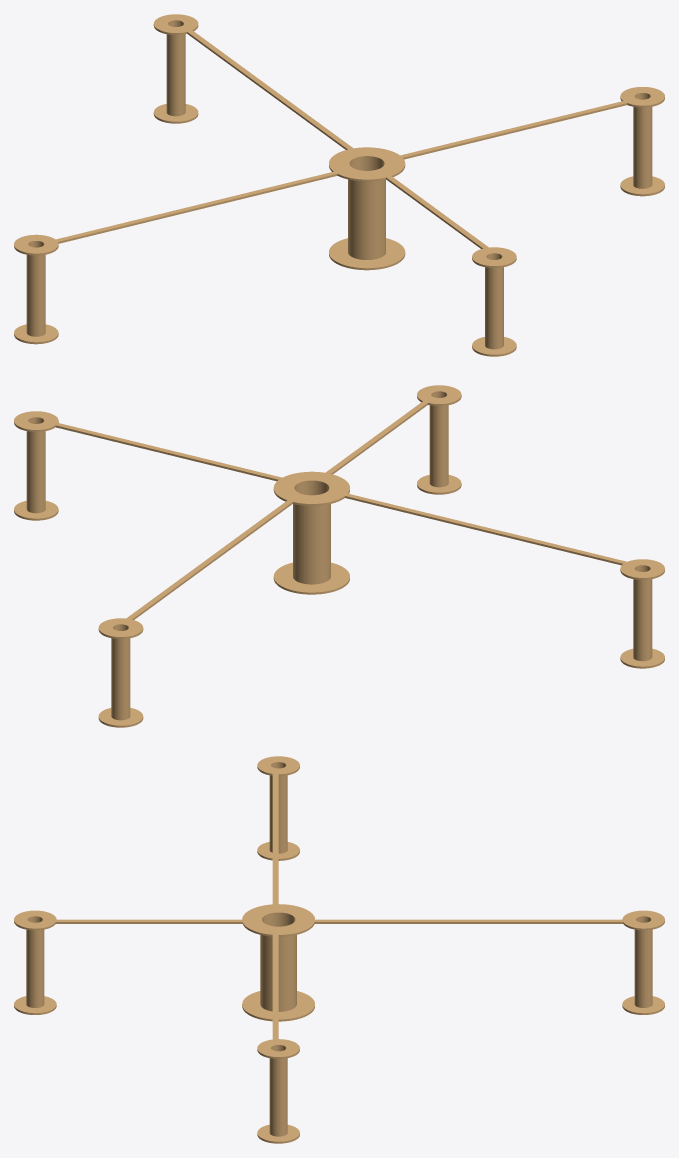
The model's file is board.glb.
The picture shows the model from 3 angles, top to bottom: view 1: azimuth 30°, elevation 25°; view 2: azimuth 150°, elevation 25°; view 3: azimuth 270°, elevation 25°; orthographic projection. The views are drawn at different scales.
Visible parts, largest first — view 1: Bare_Via_Tube_0, Unified_Net_1_Island_5, Unified_Net_6_Island_13, Bare_Via_Tube_4, Bare_Via_Tube_3, Bare_Via_Tube_2, Bare_Via_Tube_1, Unified_Net_6_Island_15, Unified_Net_6_Island_14, Unified_Net_1_Island_10, Unified_Net_6_Island_12, Unified_Net_3_Island_9 (+7 smaller); view 2: Bare_Via_Tube_0, Unified_Net_1_Island_5, Bare_Via_Tube_3, Bare_Via_Tube_1, Bare_Via_Tube_4, Bare_Via_Tube_2, Unified_Net_6_Island_13, Unified_Net_6_Island_15, Unified_Net_6_Island_14, Unified_Net_1_Island_10, Unified_Net_6_Island_12, Unified_Net_3_Island_9 (+7 smaller); view 3: Bare_Via_Tube_0, Unified_Net_1_Island_5, Unified_Net_6_Island_15, Bare_Via_Tube_3, Bare_Via_Tube_1, Bare_Via_Tube_2, Bare_Via_Tube_4, Unified_Net_1_Island_10, Unified_Net_6_Island_12, Unified_Net_6_Island_13, Unified_Net_6_Island_14, Unified_Net_3_Island_9 (+3 smaller).
Part boxes in pixels (x1,y1,x2,y2): Bare_Via_Tube_0: (348, 156, 385, 259); Unified_Net_1_Island_5: (329, 147, 405, 181); Unified_Net_6_Island_13: (45, 168, 352, 244); Bare_Via_Tube_4: (26, 241, 45, 336); Bare_Via_Tube_3: (633, 93, 652, 188); Bare_Via_Tube_2: (166, 20, 185, 116); Bare_Via_Tube_1: (485, 253, 503, 349); Unified_Net_6_Island_15: (182, 26, 362, 155); Unified_Net_6_Island_14: (385, 99, 634, 161); Unified_Net_1_Island_10: (329, 238, 405, 270); Unified_Net_6_Island_12: (377, 169, 495, 252); Unified_Net_3_Island_9: (153, 14, 198, 34); Bare_Via_Tube_0: (293, 481, 330, 584); Unified_Net_1_Island_5: (273, 471, 349, 505); Bare_Via_Tube_3: (26, 417, 45, 513); Bare_Via_Tube_1: (429, 391, 448, 487); Bare_Via_Tube_4: (633, 565, 652, 661); Bare_Via_Tube_2: (111, 624, 130, 720); Unified_Net_6_Island_13: (331, 489, 638, 566); Unified_Net_6_Island_15: (120, 493, 301, 623); Unified_Net_6_Island_14: (45, 420, 298, 483); Unified_Net_1_Island_10: (273, 562, 349, 594); Unified_Net_6_Island_12: (316, 396, 433, 480); Unified_Net_3_Island_9: (98, 618, 143, 638); Bare_Via_Tube_0: (260, 913, 296, 1011); Unified_Net_1_Island_5: (242, 904, 314, 936); Unified_Net_6_Island_15: (298, 919, 635, 923); Bare_Via_Tube_3: (269, 1045, 287, 1136); Bare_Via_Tube_1: (26, 916, 44, 1007); Bare_Via_Tube_2: (634, 916, 652, 1007); Bare_Via_Tube_4: (269, 762, 287, 853); Unified_Net_1_Island_10: (242, 991, 314, 1021); Unified_Net_6_Island_12: (43, 919, 259, 923); Unified_Net_6_Island_13: (272, 768, 278, 912); Unified_Net_6_Island_14: (272, 927, 278, 1042); Unified_Net_3_Island_9: (622, 910, 664, 930).
Size of the model in its own units: 0.0117 by 0.00157 by 0.0107.
